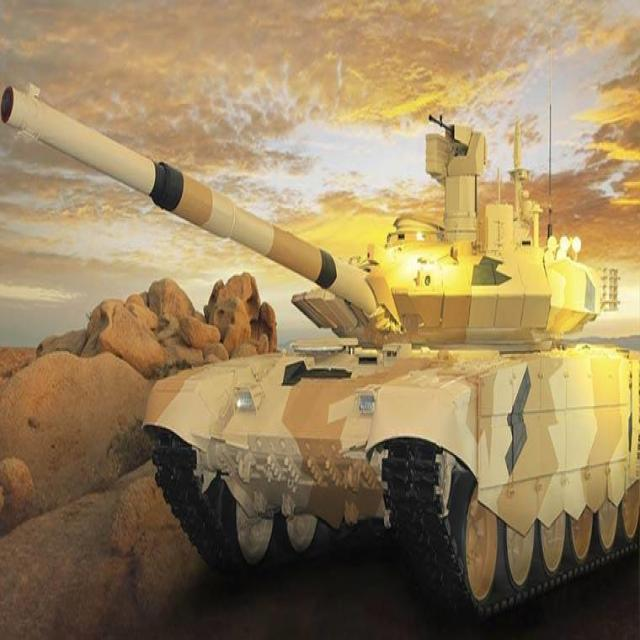Tanks: (110, 153, 626, 608)
